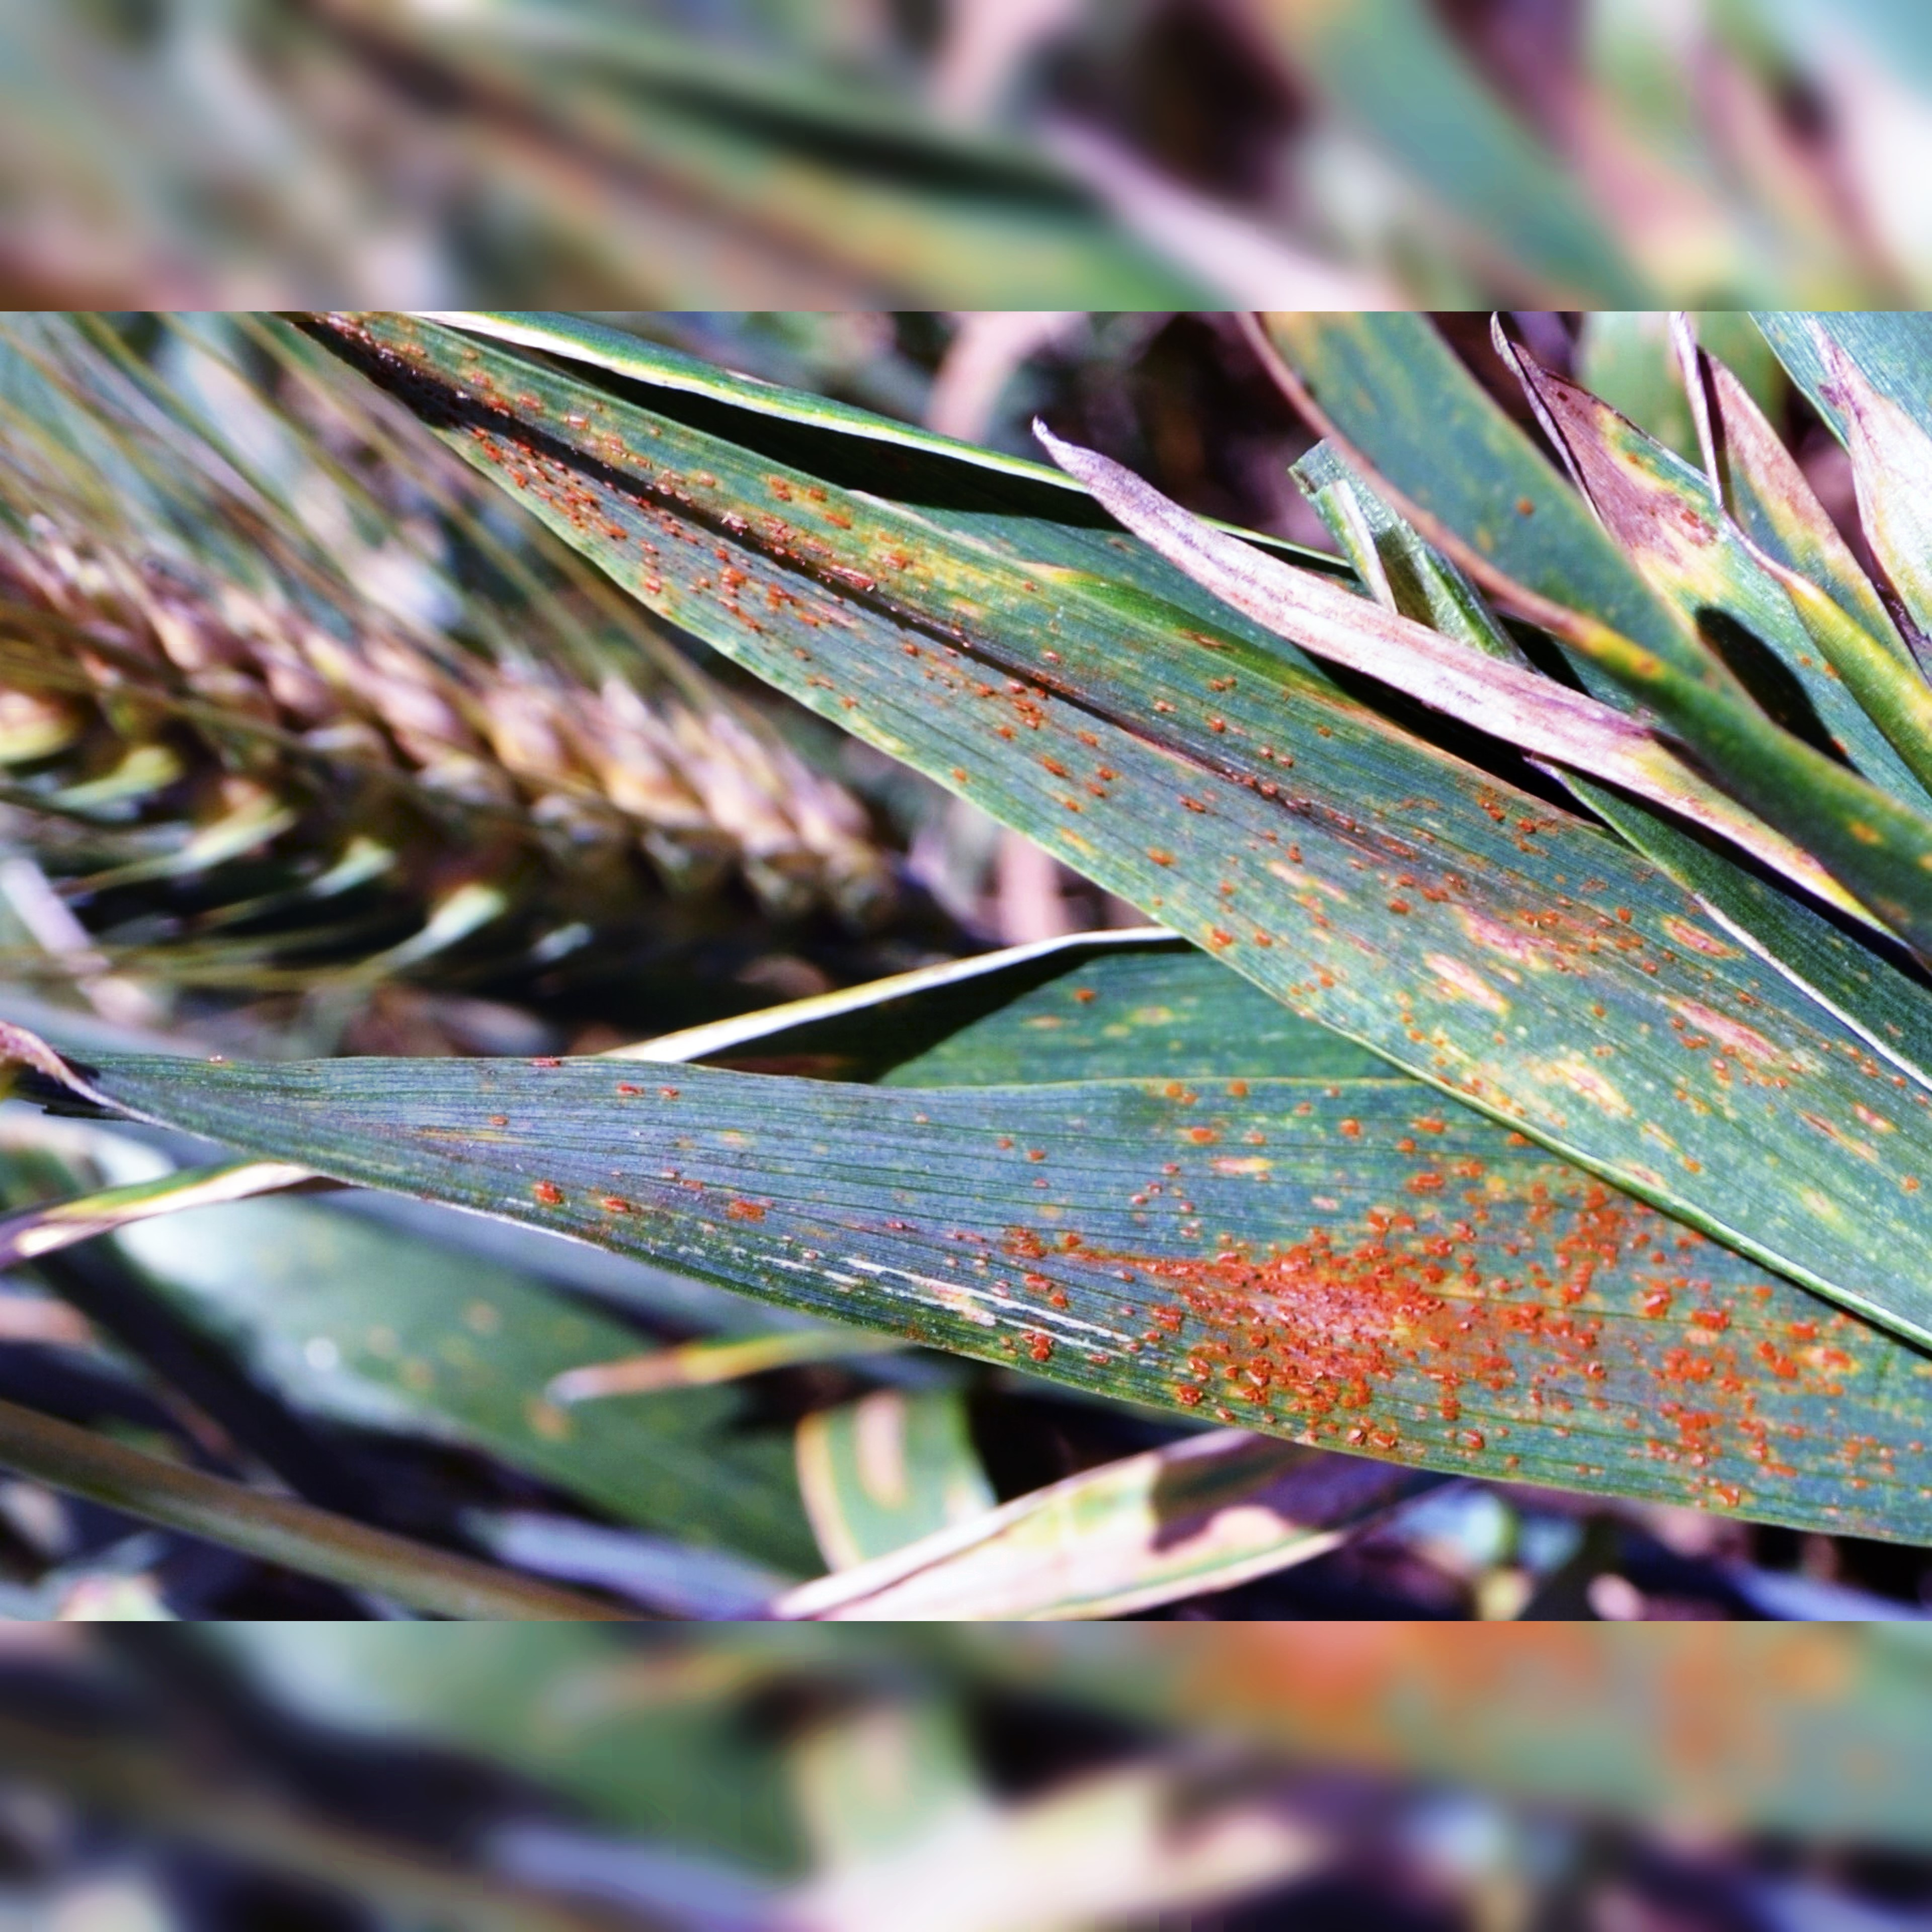Leaf Rust: (837, 1035, 1897, 1516)
